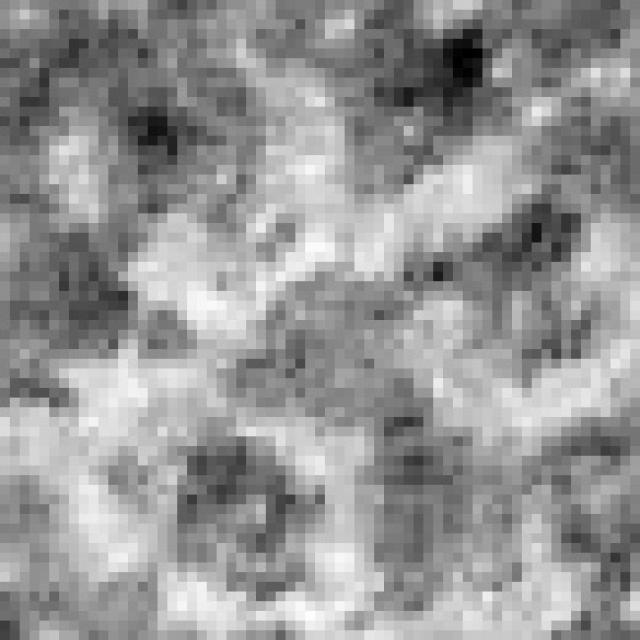inner: (232, 272, 437, 432)
lobe: (406, 194, 612, 394), (327, 6, 519, 203), (90, 44, 267, 229), (360, 421, 526, 618), (1, 213, 198, 363), (170, 433, 328, 607)
outer: (0, 0, 640, 640)
